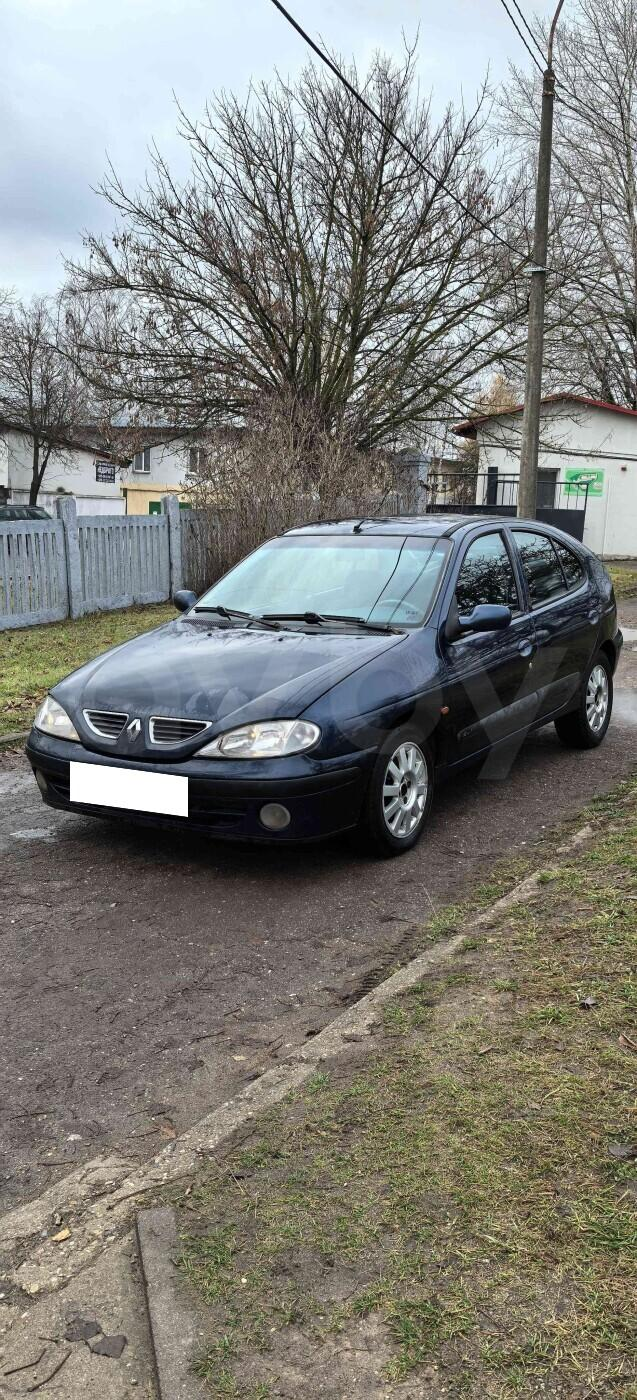Megane_1999-2003: (40, 514, 634, 850)
